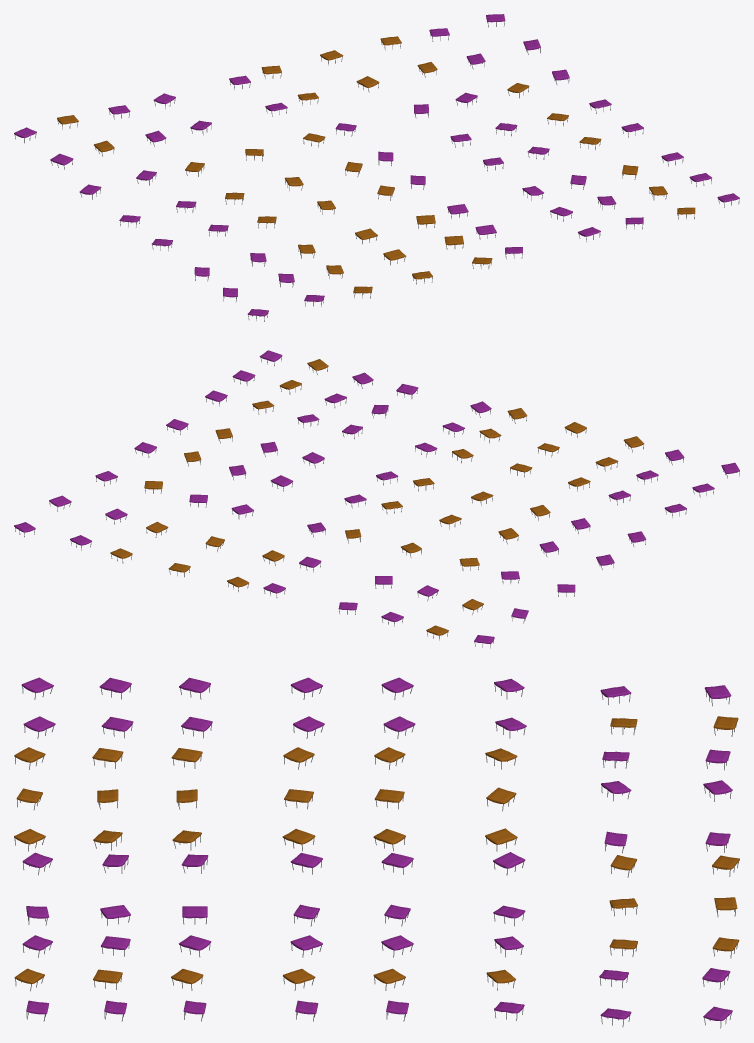
File: Bazaar_stands.fbx
3 renders of one model, top to bottom at view 1: azimuth 30°, elevation 25°; view 2: azimuth 150°, elevation 25°; view 3: azimuth 270°, elevation 25°, orthographic. The views are drawn at different scales.
Bounding box in the file's own units: 1493 × 23.71 × 1340.
